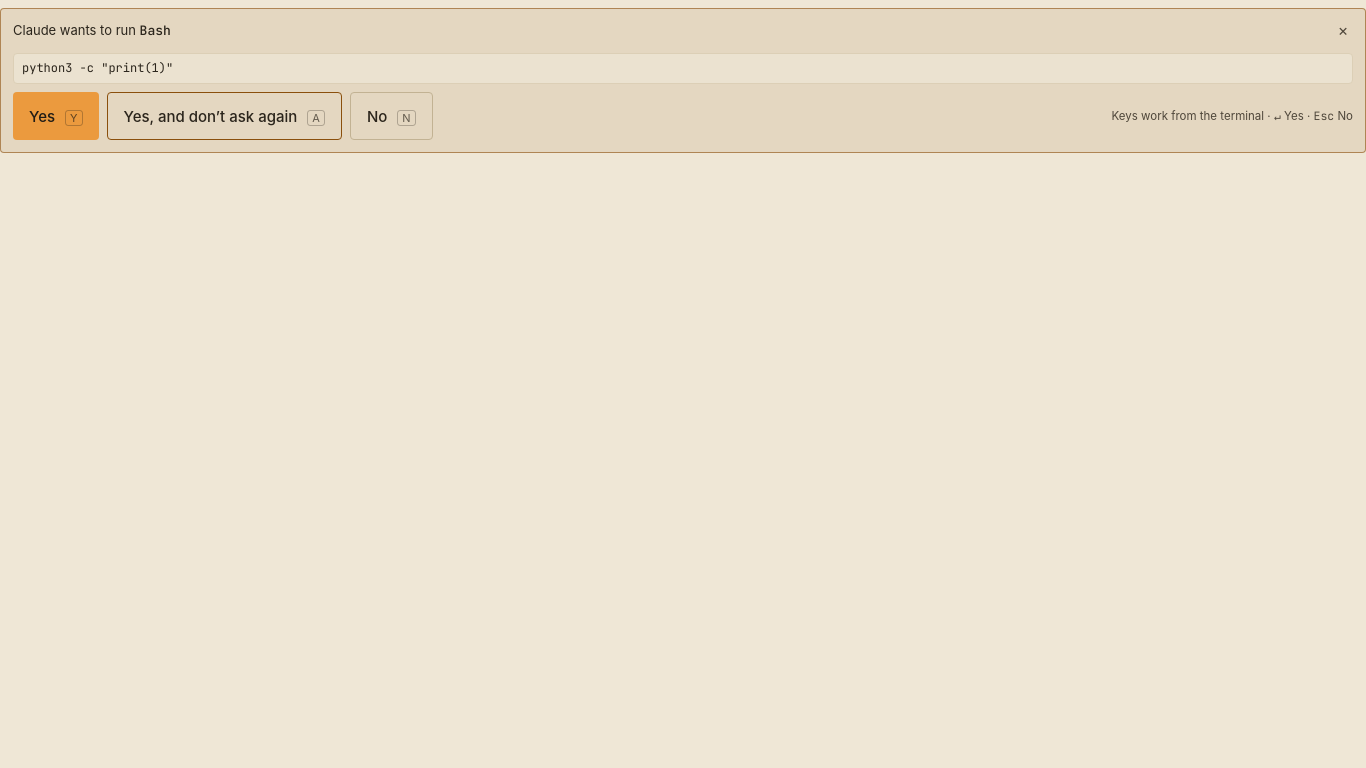
Test: a permission prompt › shows why when the option is not on the screen, and keeps the prompt
Click the button "Yes, and don’t ask again A" at (224, 116), box [106,92,342,140]
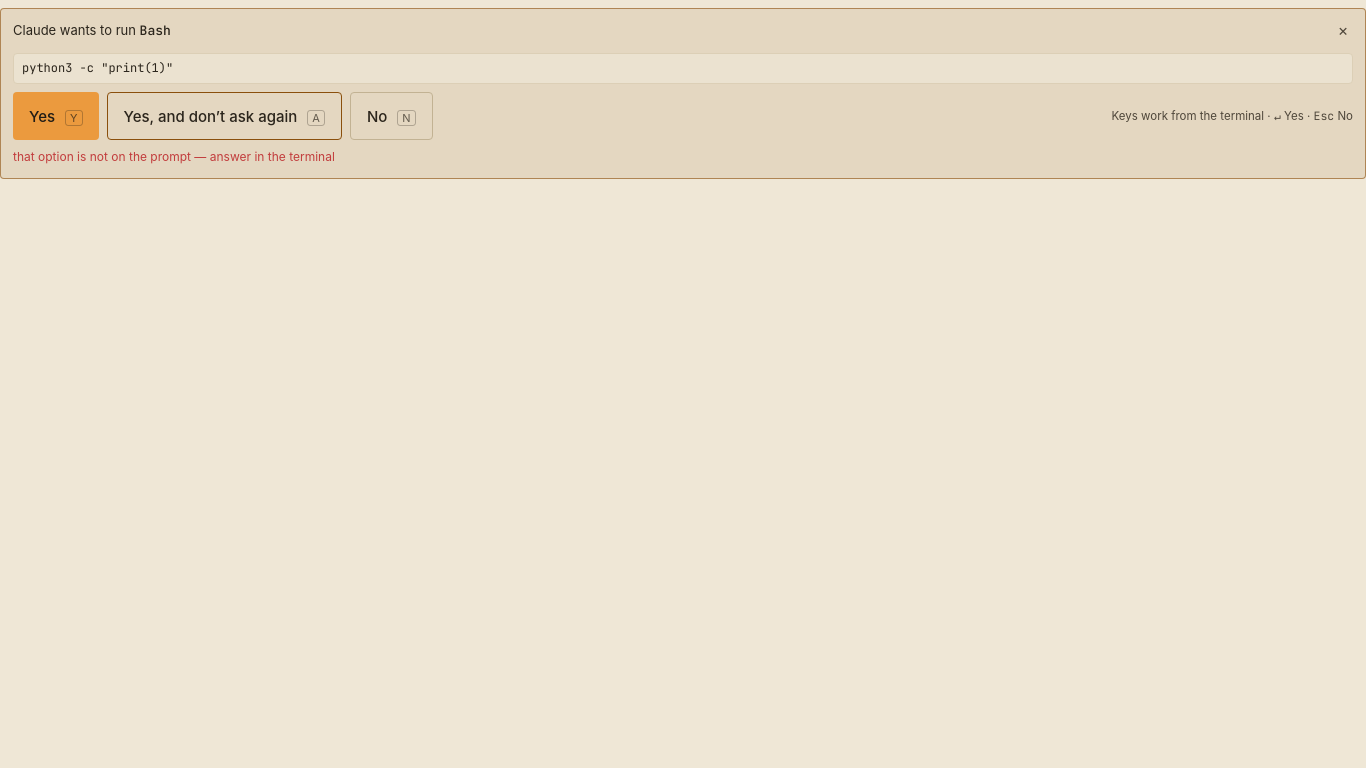
Expected: the dialog is shown, [0,8,1365,179]
Now the message reads "that option is not on the prompt — answer in the terminal", box [13,149,335,164]
